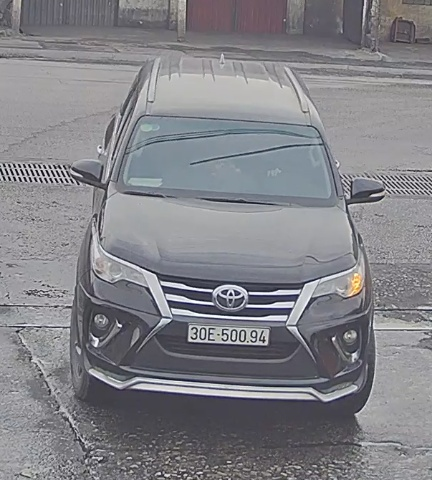vehicle plate: (182, 318, 273, 352)
